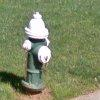a fire hydrant: (25, 12, 51, 93)
